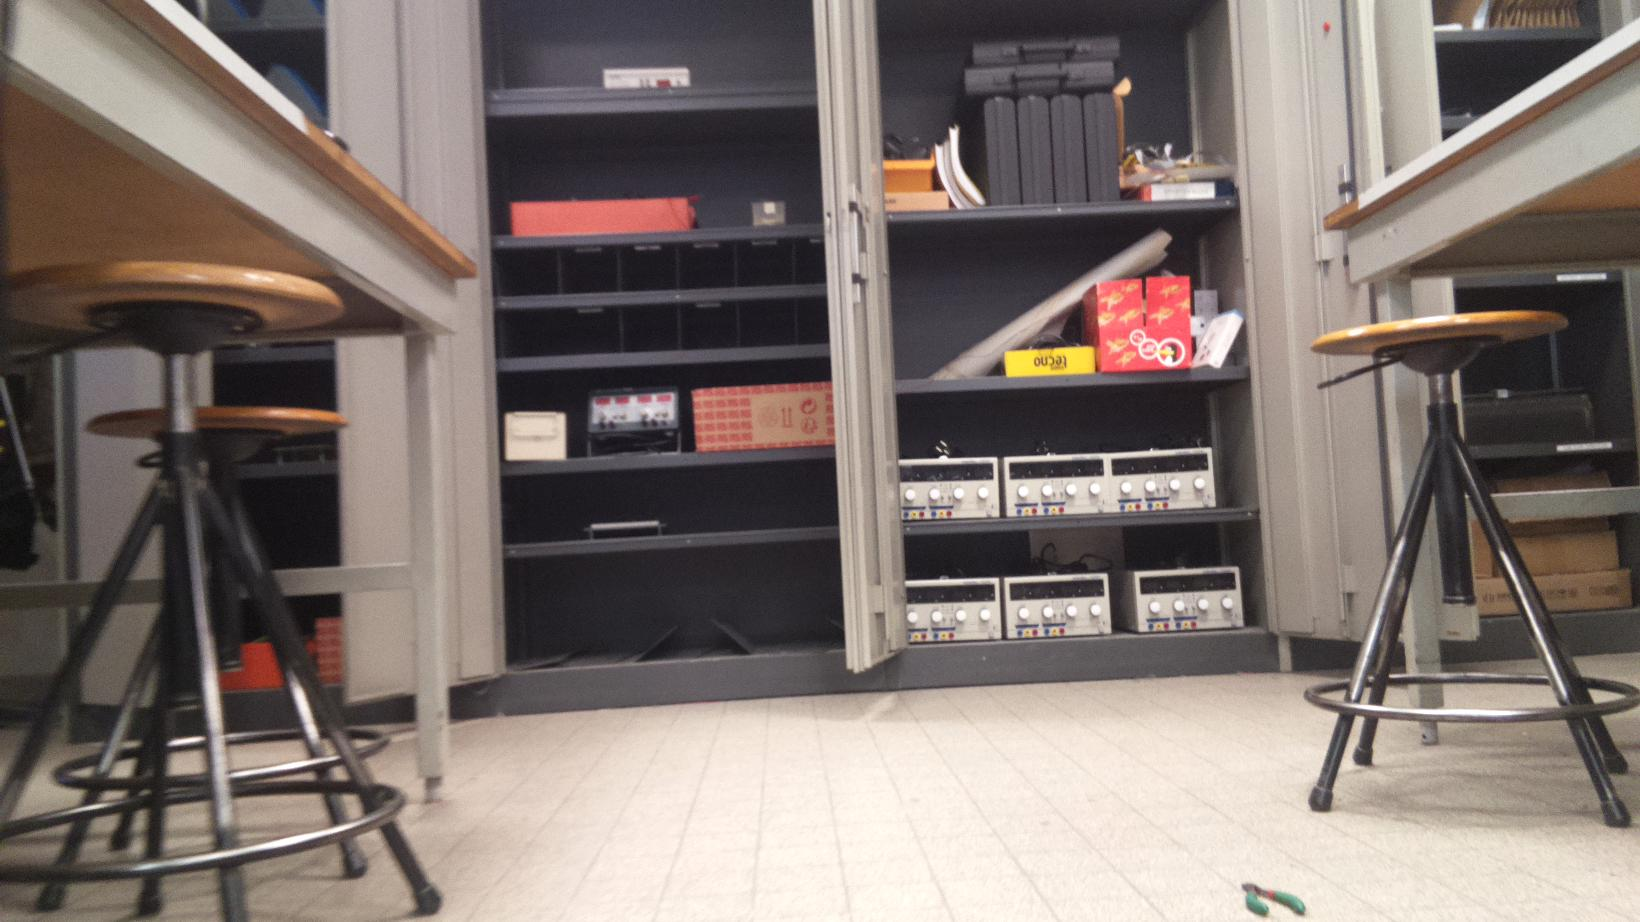small: (1230, 876, 1312, 922)
